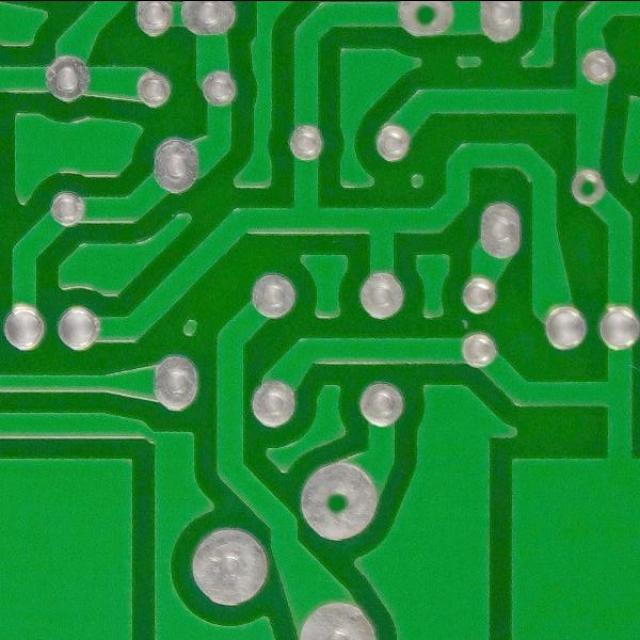Missing_Hole: (291, 458, 388, 548), (391, 0, 461, 42), (564, 166, 614, 209)
